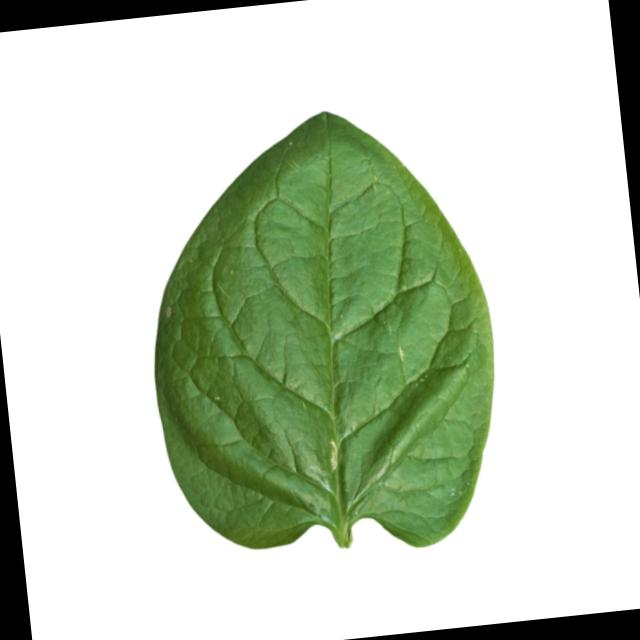Medicinal-Basale: (128, 91, 514, 574)
